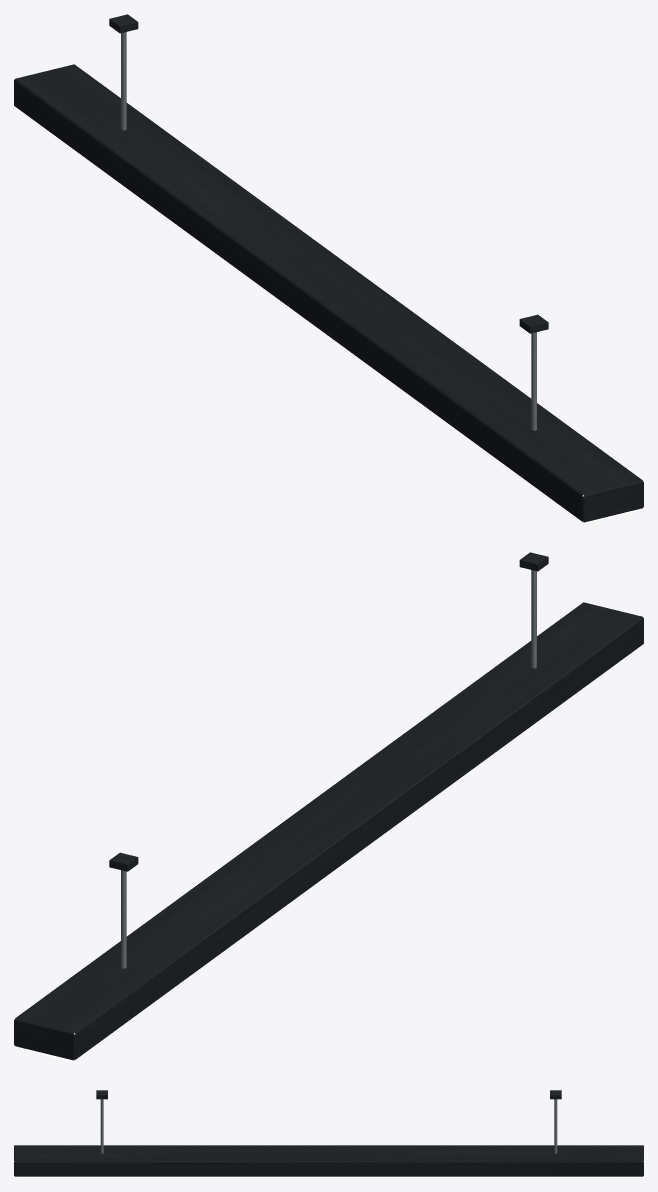
File: ceiling_light_linear.glb
3 views of the same model, one above another, from view 1: azimuth 30°, elevation 25°; view 2: azimuth 150°, elevation 25°; view 3: azimuth 270°, elevation 25° (orthographic). The views are drawn at different scales.
Parts seen in each view (by area): view 1: light_housing; view 2: light_housing; view 3: light_housing, light_diffuser.
Part boxes in pixels (x1,y1,x2,y2): light_housing: (14, 14, 643, 522); light_housing: (14, 552, 643, 1060); light_housing: (14, 1090, 643, 1176); light_diffuser: (17, 1176, 640, 1177).
Size of what is drawn, in the model's own units: 0.15 by 0.326 by 2.4.
Materials: 4 (3 with a texture image).
